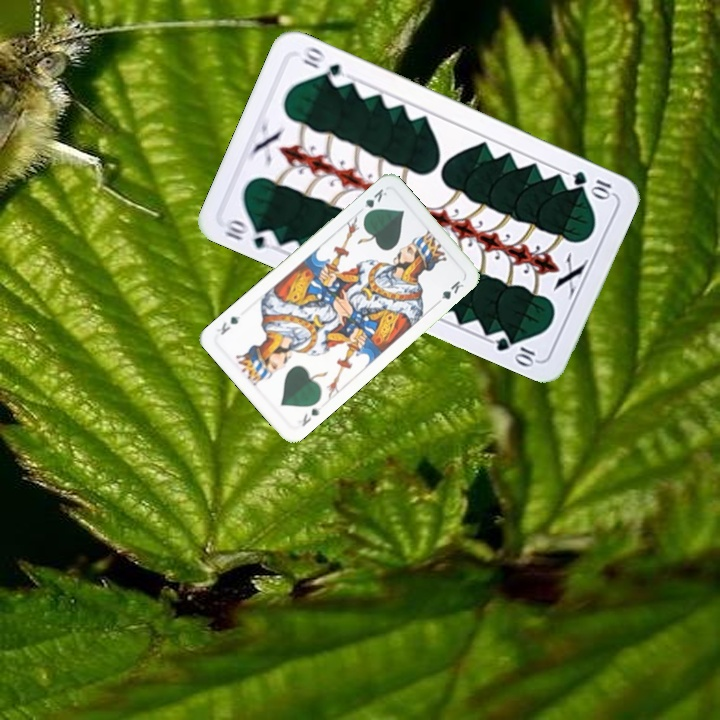G10: (220, 214, 280, 252), (569, 167, 615, 201)
GK: (355, 184, 390, 219), (298, 403, 324, 429)
